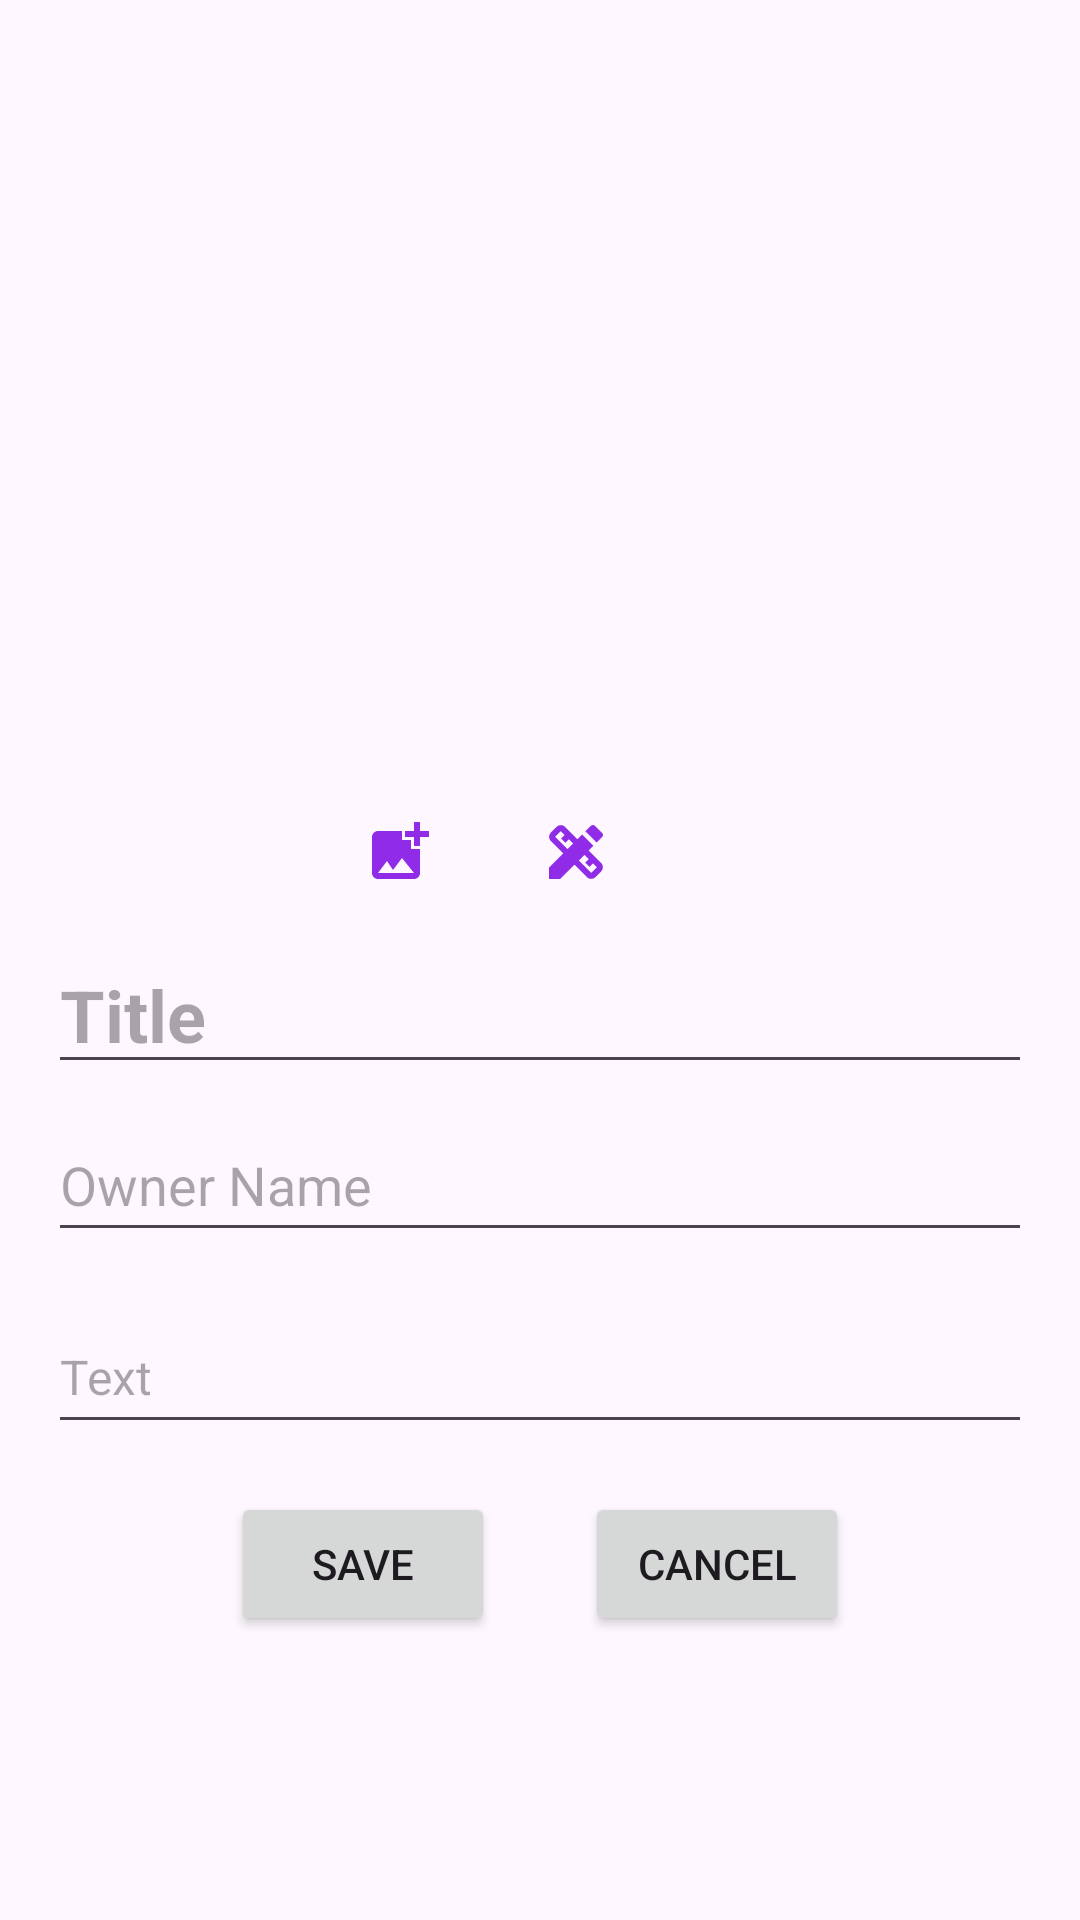

Point at icon controls on the screen. Image size 1080px x 1920px, points as point (x, y).
Add Image: point (400, 850)
